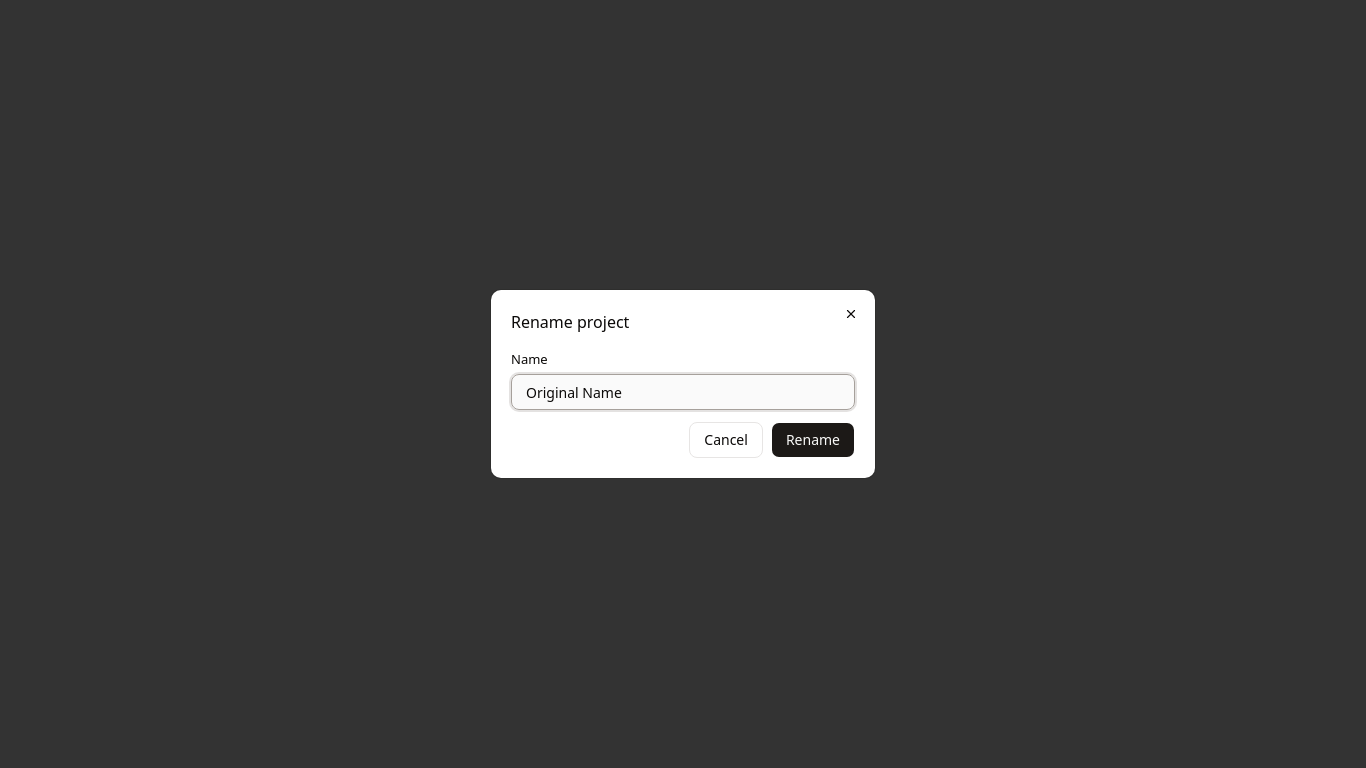
Test case: RenameProjectForm › submit button is disabled when name is empty
Clear the field labelled "Name" at (683, 392), box [511,374,855,410]
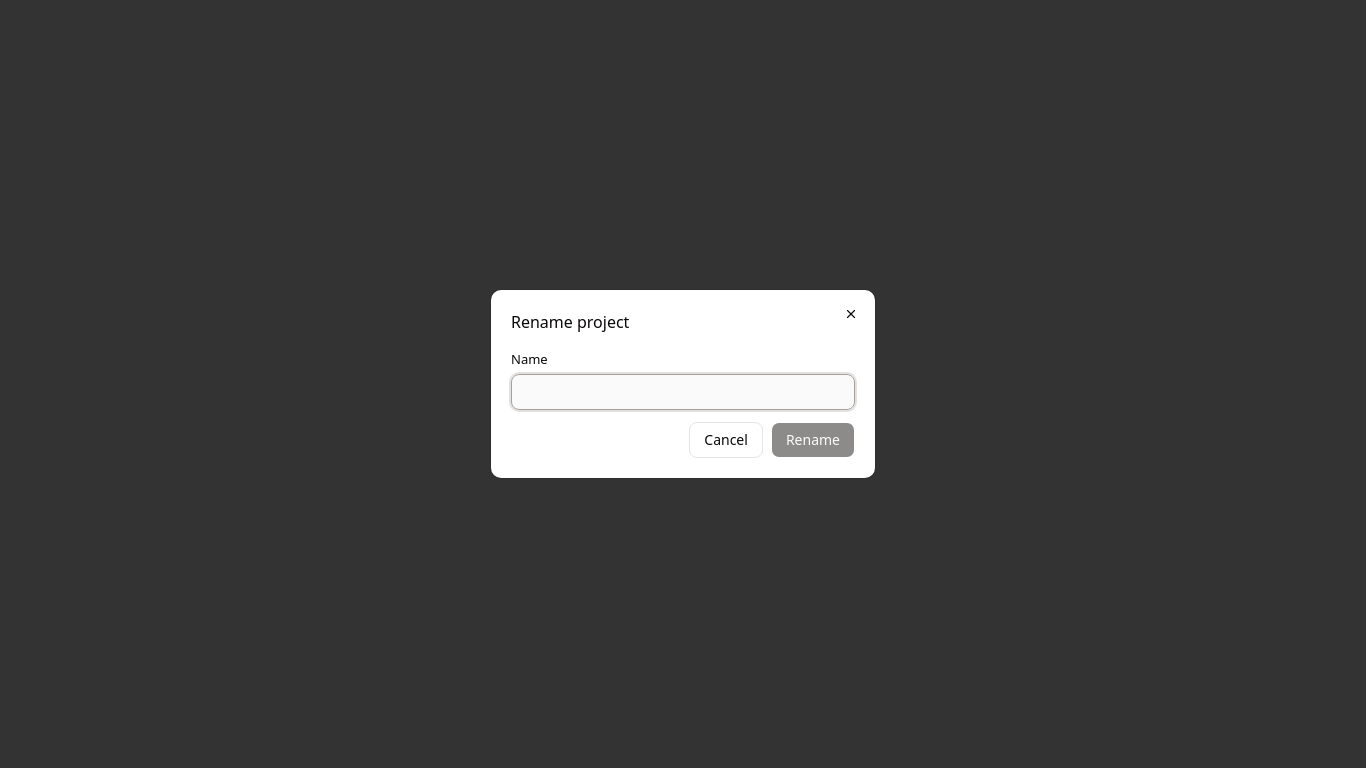
Expected: the button "Rename" is disabled, [771,422,855,458]
